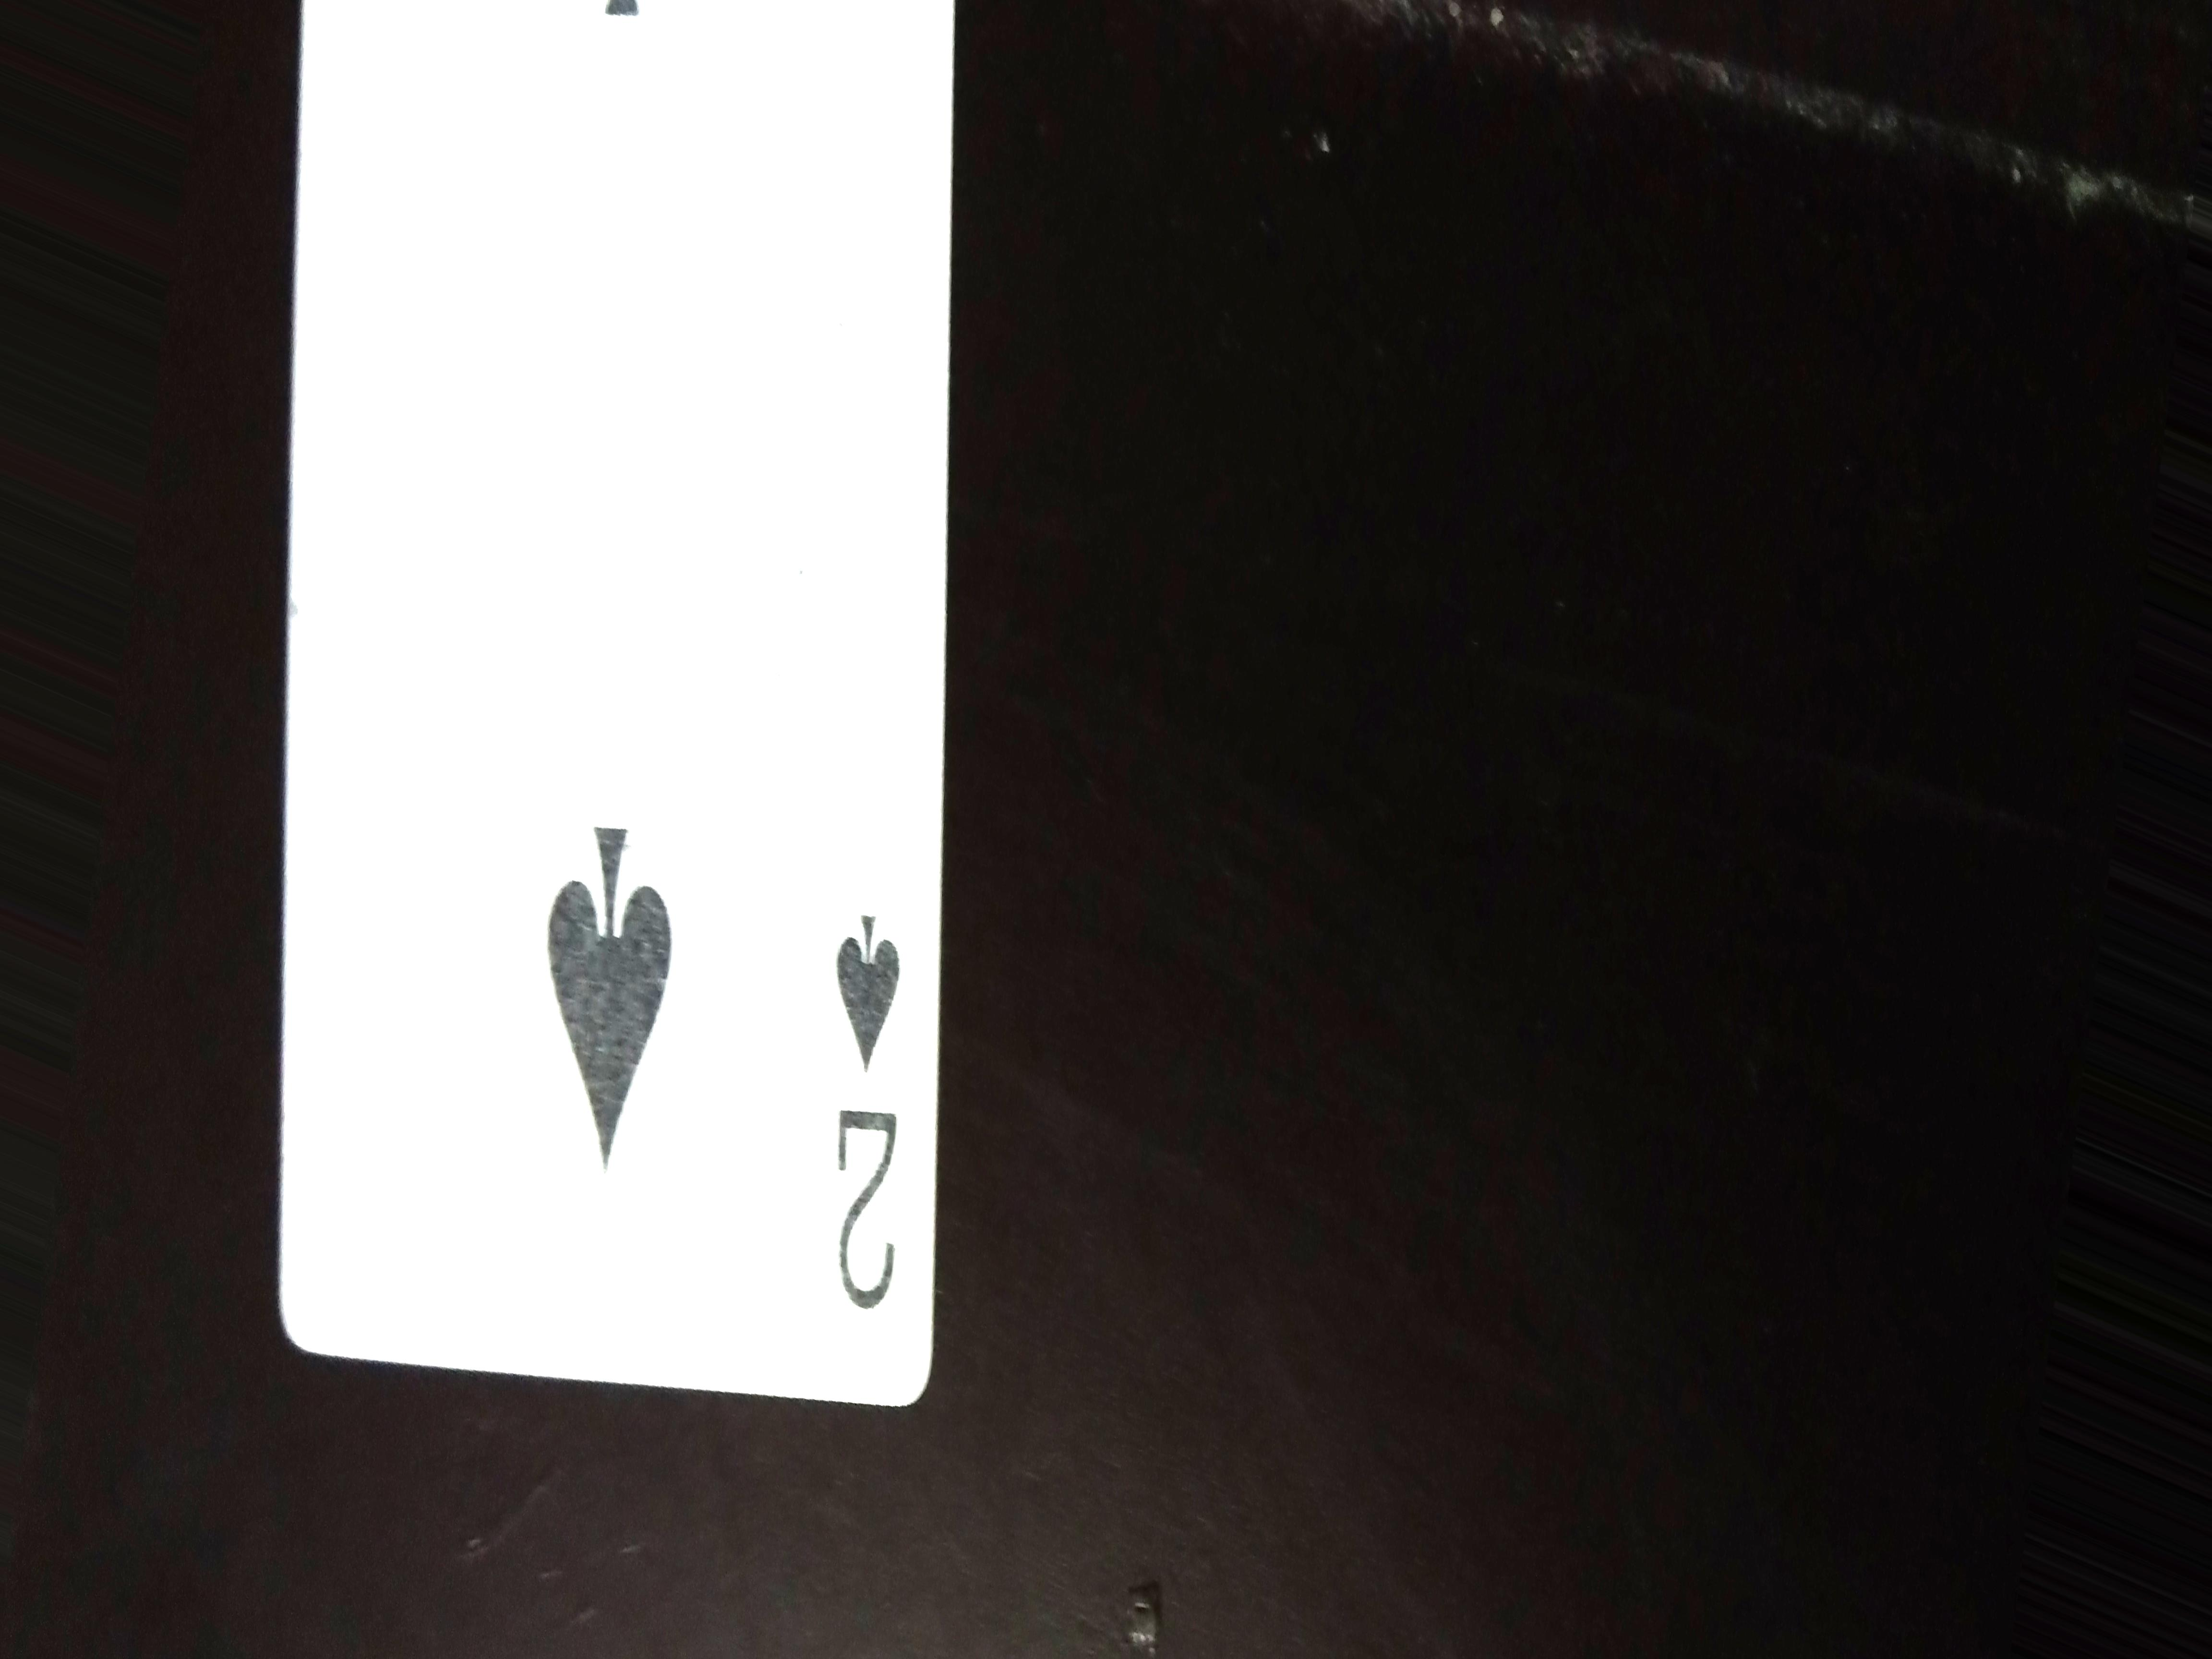2S: (805, 911, 925, 1359)
